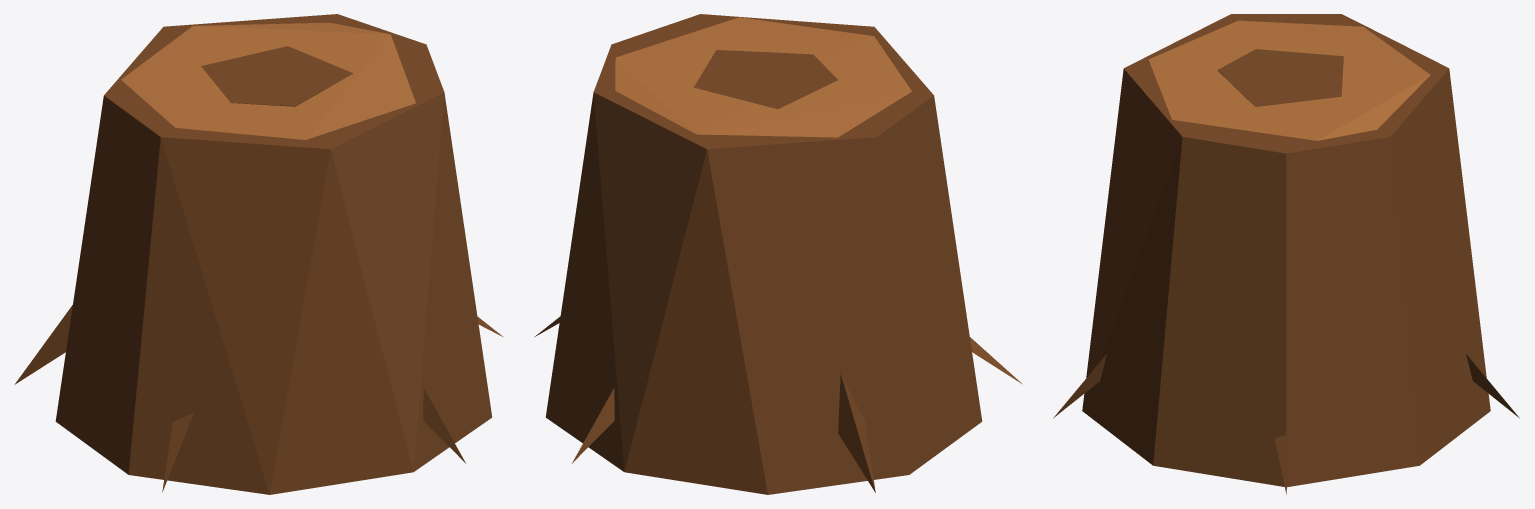
File: tree_stump_b.fbx
The picture shows the model from 3 angles, left to right: view 1: azimuth 30°, elevation 25°; view 2: azimuth 150°, elevation 25°; view 3: azimuth 270°, elevation 25°; orthographic projection. The views are drawn at different scales.
Visible parts, largest first — view 1: tree_stump_b; view 2: tree_stump_b; view 3: tree_stump_b.
Boxes of the visible parts, <box> form: tree_stump_b: <box>14,14,502,494</box>; tree_stump_b: <box>535,14,1022,494</box>; tree_stump_b: <box>1053,14,1519,494</box>.
Size of the model in its own units: 1.2 by 0.9 by 1.2.
